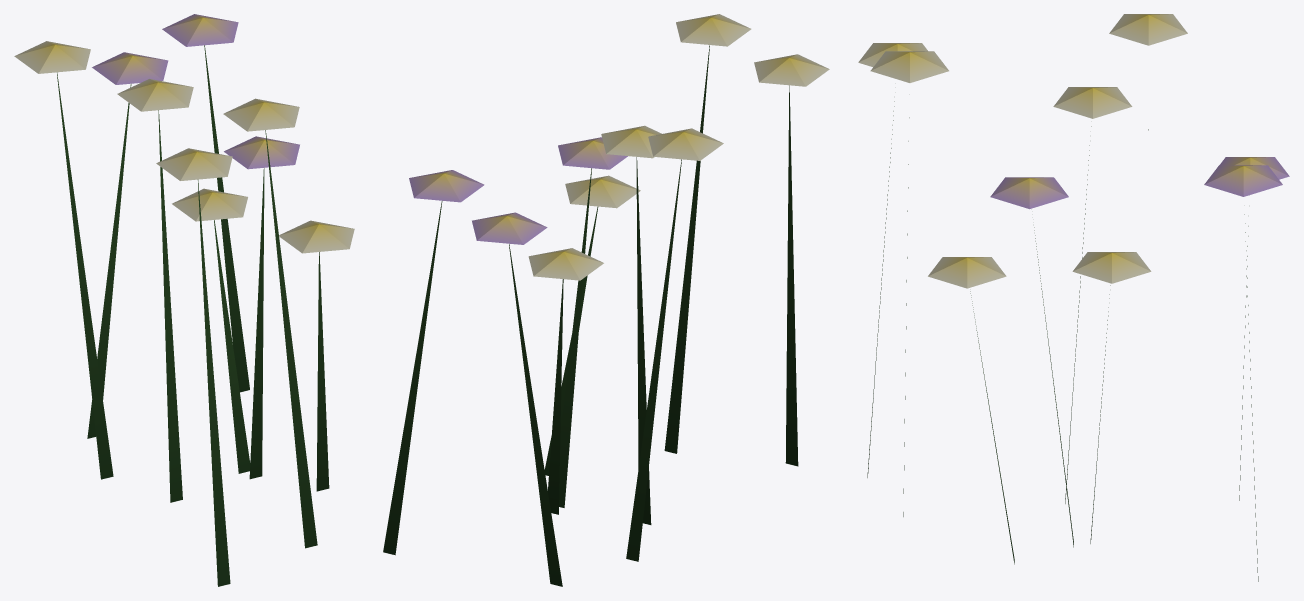
Rendered from flowers_wild_a.glb.
The picture shows the model from 3 angles, left to right: view 1: azimuth 30°, elevation 25°; view 2: azimuth 150°, elevation 25°; view 3: azimuth 270°, elevation 25°; orthographic projection.
Parts seen in each view (by area): view 1: flowers_wild_a; view 2: flowers_wild_a; view 3: flowers_wild_a.
Part boxes in pixels (x1,y1,x2,y2): flowers_wild_a: (14,14,354,586); flowers_wild_a: (383,14,829,586); flowers_wild_a: (858,14,1289,581).
Bounding box in the file's own units: 0.2648 × 0.4117 × 0.3529.
